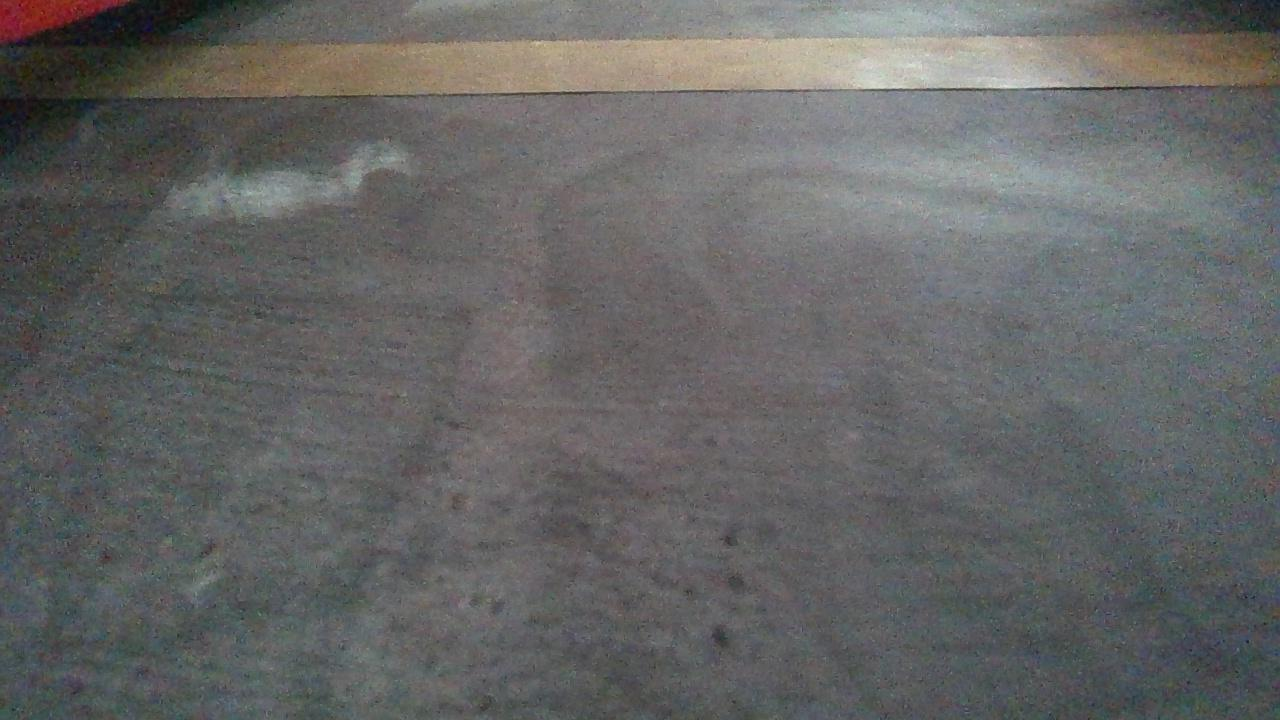yellow_line: (0, 40, 1279, 94)
